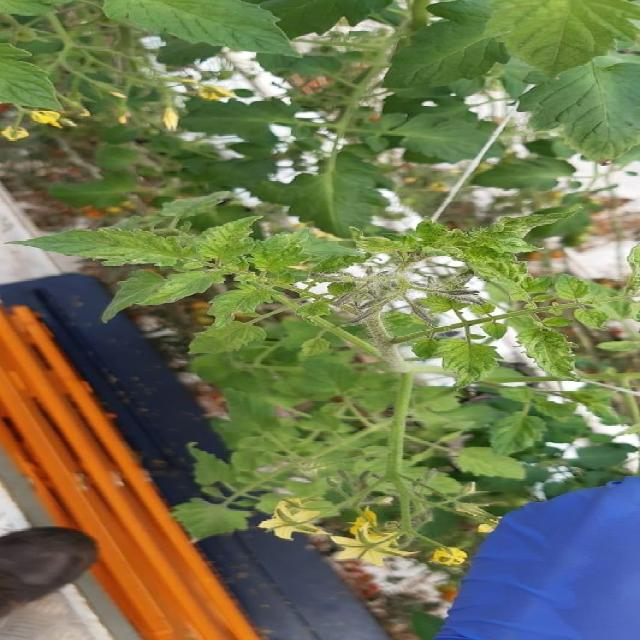T_Fl_H: (331, 510, 415, 567), (258, 499, 329, 540), (431, 549, 469, 566)
T_L_H: (521, 57, 640, 162), (486, 1, 640, 77), (104, 1, 296, 56), (385, 21, 510, 89), (1, 45, 63, 110), (187, 322, 264, 355)
T_L_R: (17, 228, 193, 267), (469, 211, 569, 253), (517, 328, 578, 380), (199, 216, 264, 264), (439, 340, 502, 389), (137, 271, 221, 306), (458, 247, 529, 287), (209, 286, 274, 328), (253, 231, 310, 274), (356, 236, 418, 253), (556, 275, 591, 300), (575, 310, 610, 329)
